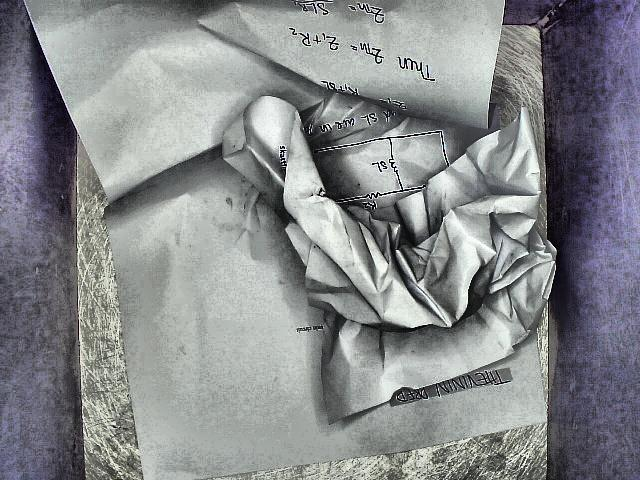Paper: (23, 0, 556, 480)
